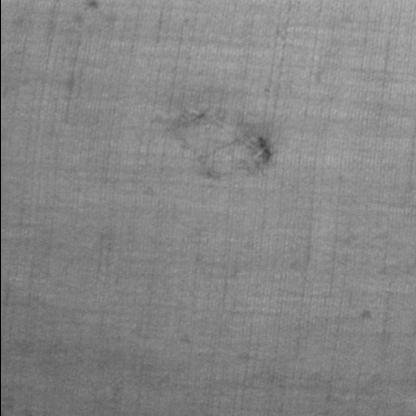objects: (173, 105, 274, 183)
